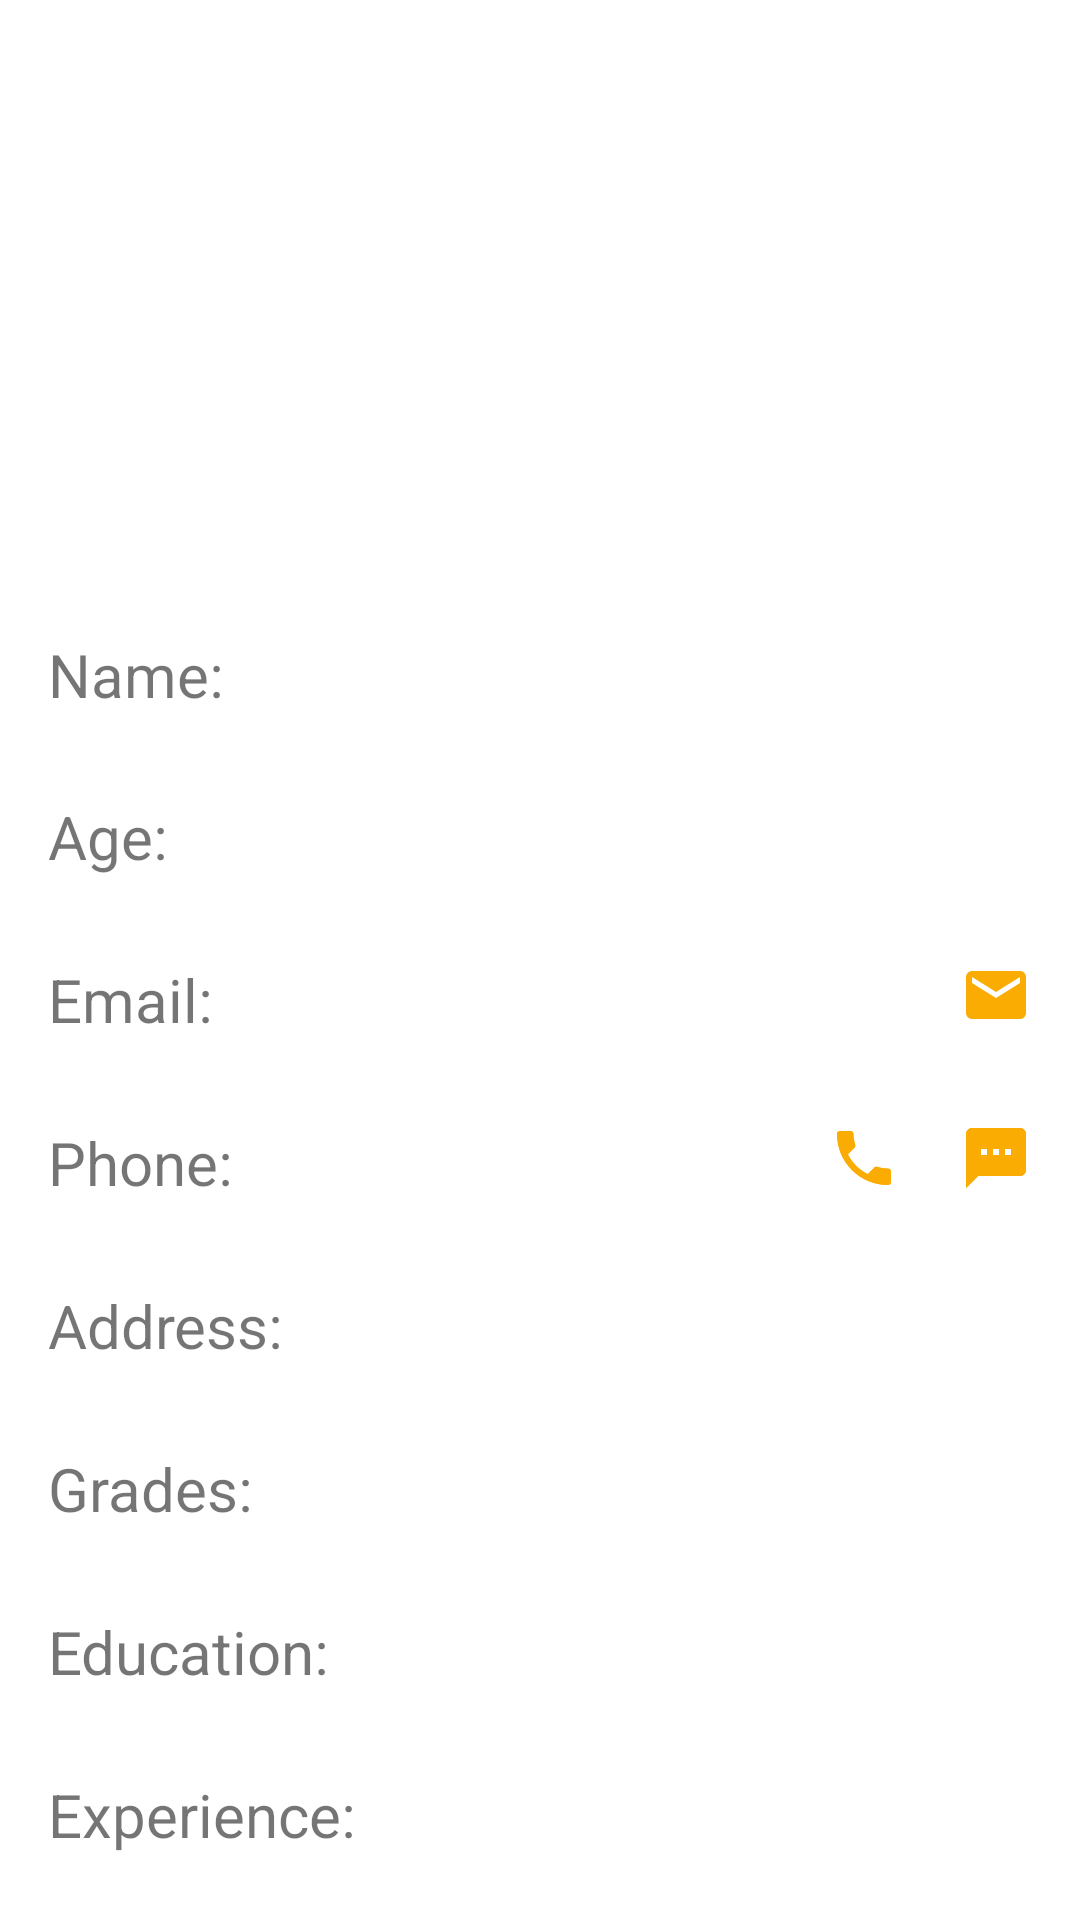

Named icons in this screenshot (1080×1920) and their bounding boxes, (x1, y1, x2, y2):
email: (966, 971, 1026, 1019)
phone: (837, 1131, 891, 1185)
